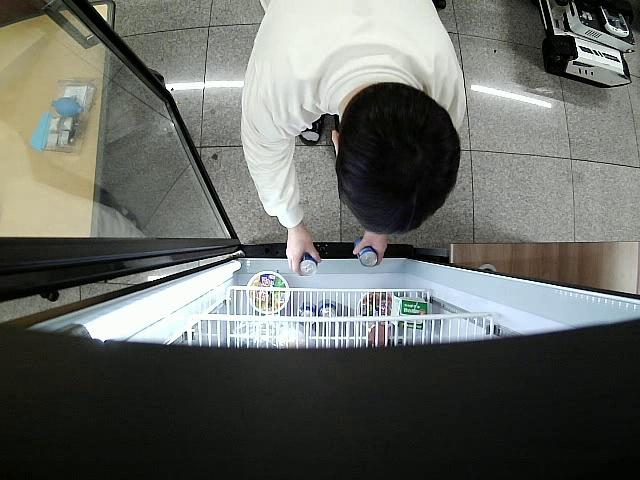00_hand: (351, 229, 390, 266), (287, 234, 319, 276)
15_letsbe: (353, 239, 379, 267)
